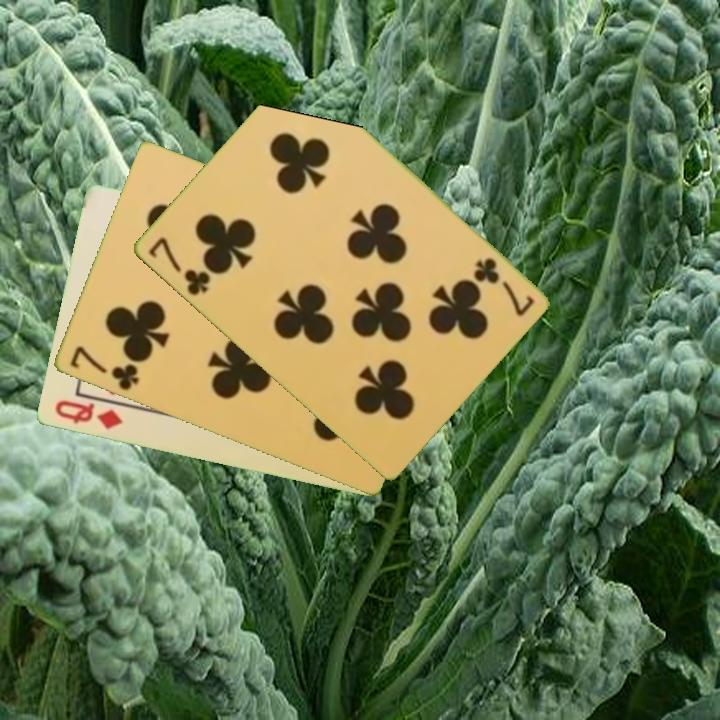7c: (144, 233, 213, 299), (469, 253, 536, 319), (66, 342, 142, 394)
Qd: (51, 397, 125, 433)
